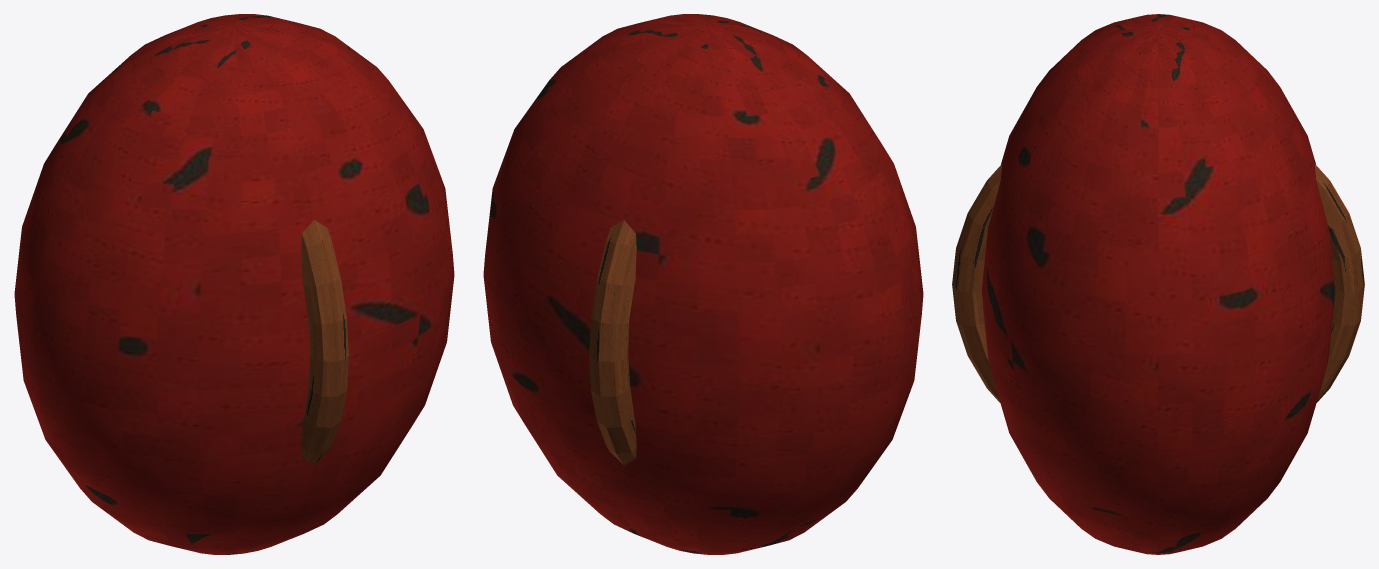
File: eq-vineseed.glb
The picture shows the model from 3 angles, left to right: view 1: azimuth 30°, elevation 25°; view 2: azimuth 150°, elevation 25°; view 3: azimuth 270°, elevation 25°; orthographic projection.
Visible parts, largest first — view 1: Seed, Seed seam; view 2: Seed, Seed seam; view 3: Seed, Seed seam.
Boxes of the visible parts, x1=… form: Seed: x1=14, y1=14, x2=454, y2=554; Seed seam: x1=301, y1=220, x2=348, y2=465; Seed: x1=483, y1=14, x2=923, y2=554; Seed seam: x1=589, y1=220, x2=636, y2=465; Seed: x1=981, y1=14, x2=1334, y2=554; Seed seam: x1=952, y1=164, x2=1364, y2=402.
Bounding box in the file's own units: 0.18 × 0.22 × 0.162.
2 materials, 2 textured.
